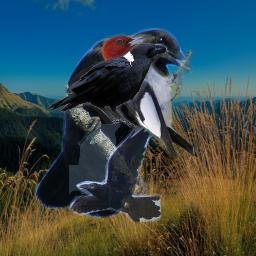Crow: (35, 28, 190, 220), (47, 43, 168, 131), (69, 124, 161, 222)
Woodpecker: (99, 30, 200, 162)
